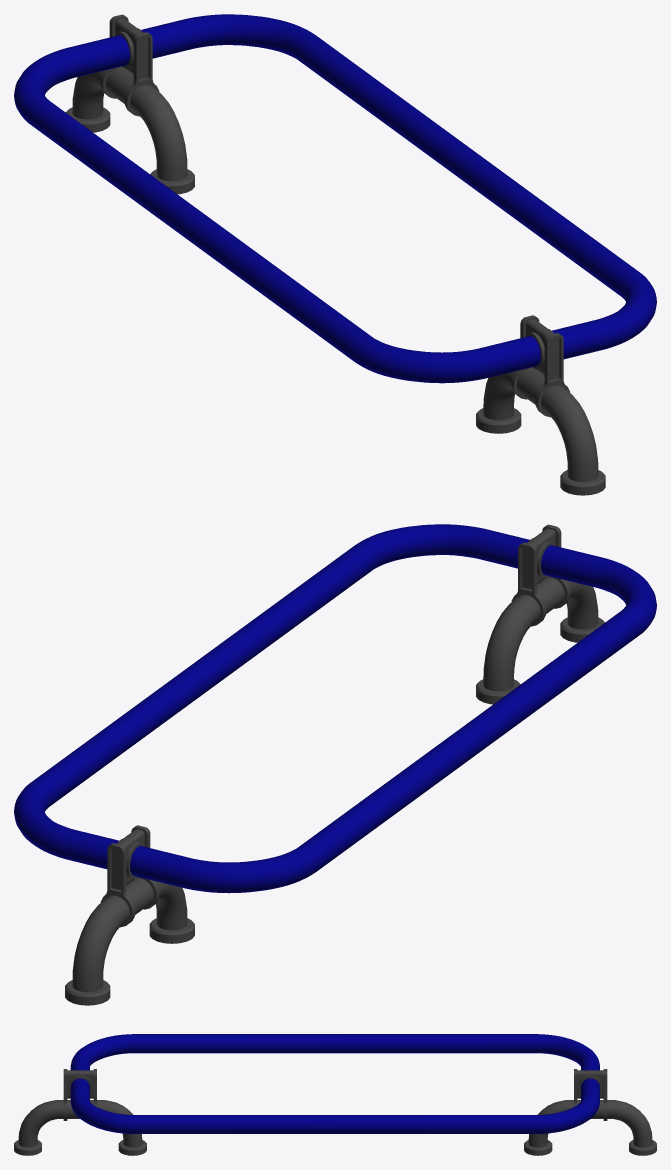
Rendered from SM_Light_lamps_lamp_9.fbx.
3 views of the same model, one above another, from view 1: azimuth 30°, elevation 25°; view 2: azimuth 150°, elevation 25°; view 3: azimuth 270°, elevation 25° (orthographic). The views are drawn at different scales.
Parts seen in each view (by area): view 1: SM_Light_lamps_lamp_9; view 2: SM_Light_lamps_lamp_9; view 3: SM_Light_lamps_lamp_9.
Part boxes in pixels (x1,y1,x2,y2): SM_Light_lamps_lamp_9: (14,14,656,495); SM_Light_lamps_lamp_9: (14,524,656,1005); SM_Light_lamps_lamp_9: (14,1034,656,1155).
Bounding box in the file's own units: 33 × 13.81 × 101.
